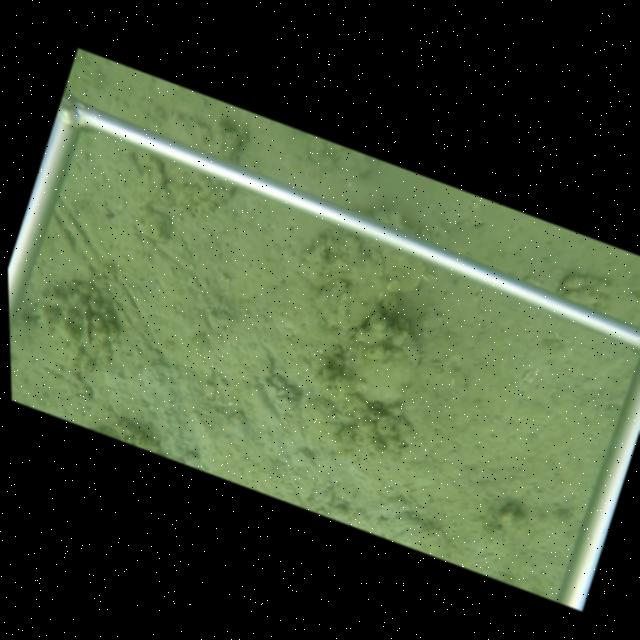Oyster-Closed: (79, 300, 93, 349)
Oyster-Indeterminate: (338, 322, 423, 407), (379, 248, 431, 294)
